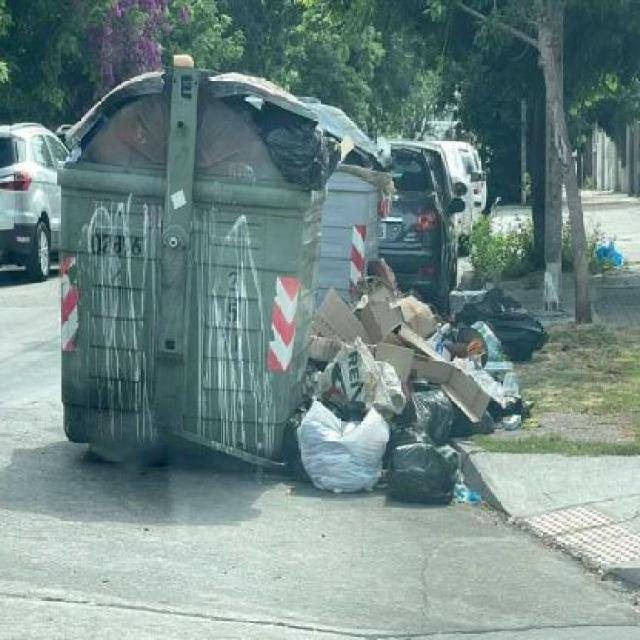garbage: (291, 245, 550, 507), (228, 95, 416, 208), (588, 222, 632, 283)
